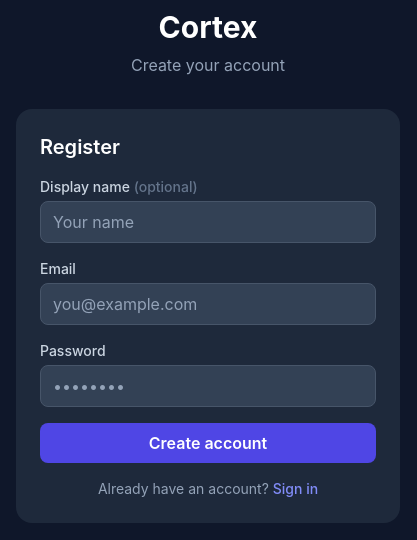
RegisterPage (Task 5.4) › disables submit button while register request is in flight
This screenshot has width=417, height=540.
Type "e@e.com" into the field labelled "Email".
click(208, 304); type("e@e.com")  # box x1=40 y1=283 x2=376 y2=325
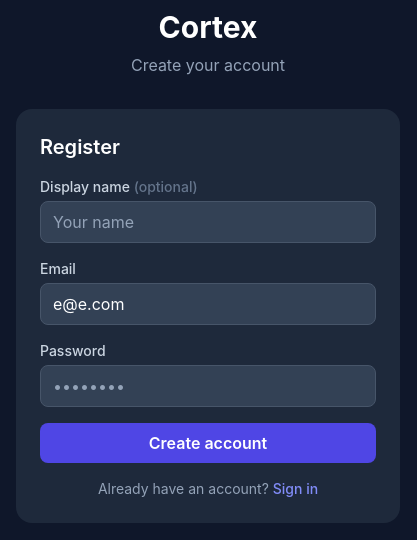
Type "pass" into the password field labelled "Password".
click(208, 386); type("pass")  # box x1=40 y1=365 x2=376 y2=407
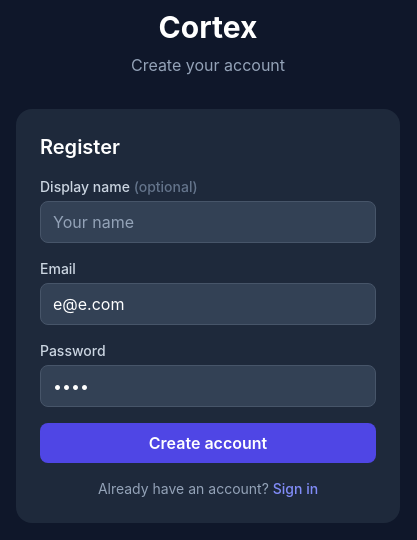
Click the button "Create account".
click(208, 443)  # box x1=40 y1=423 x2=376 y2=463
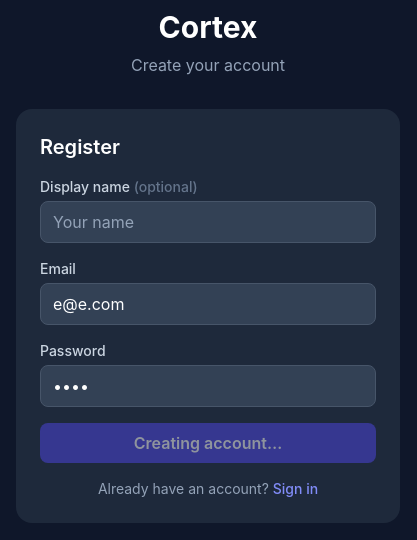
Check: the button "Creating account…" is disabled, box x1=40 y1=423 x2=376 y2=463
